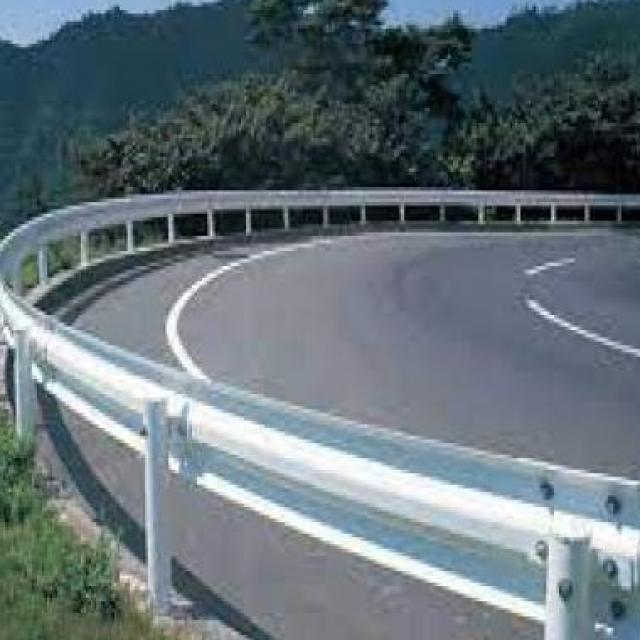Guard rail: (0, 192, 640, 640)
